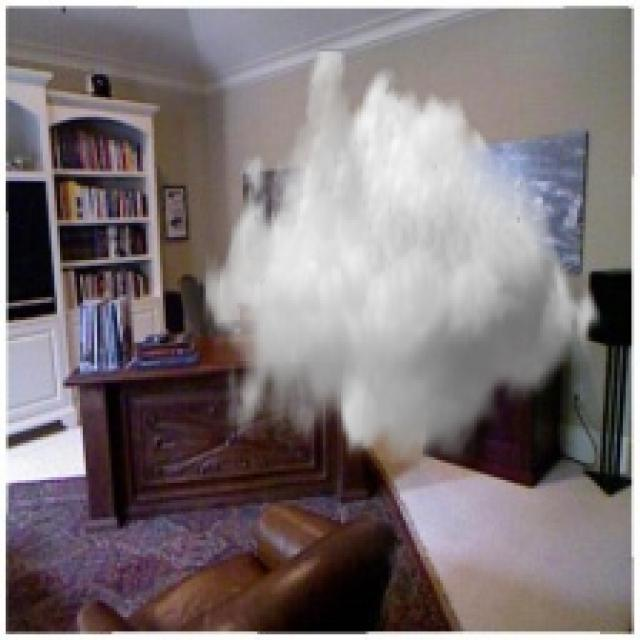smoke: (203, 49, 608, 472)
